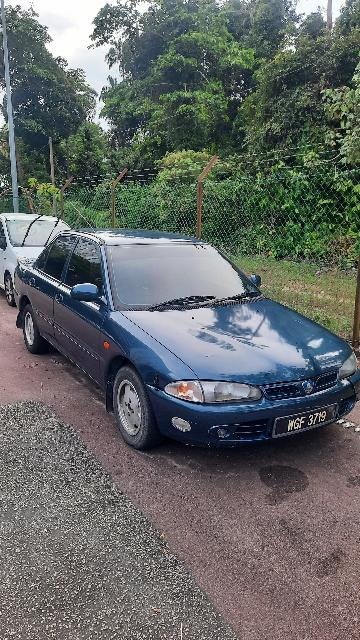License_Plate: (271, 402, 343, 443)
car: (11, 226, 360, 450)
